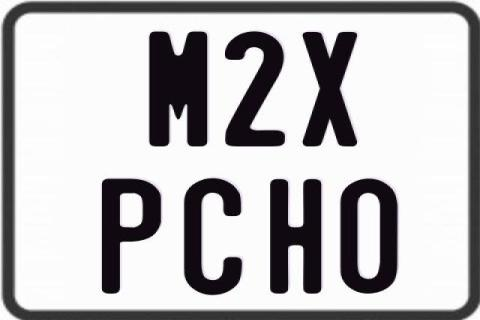0: (339, 176, 401, 296), (224, 29, 286, 147)
C: (183, 178, 241, 294)
H: (267, 177, 319, 293)
M: (147, 30, 208, 148)
P: (101, 178, 164, 294)
X: (300, 32, 357, 149)
